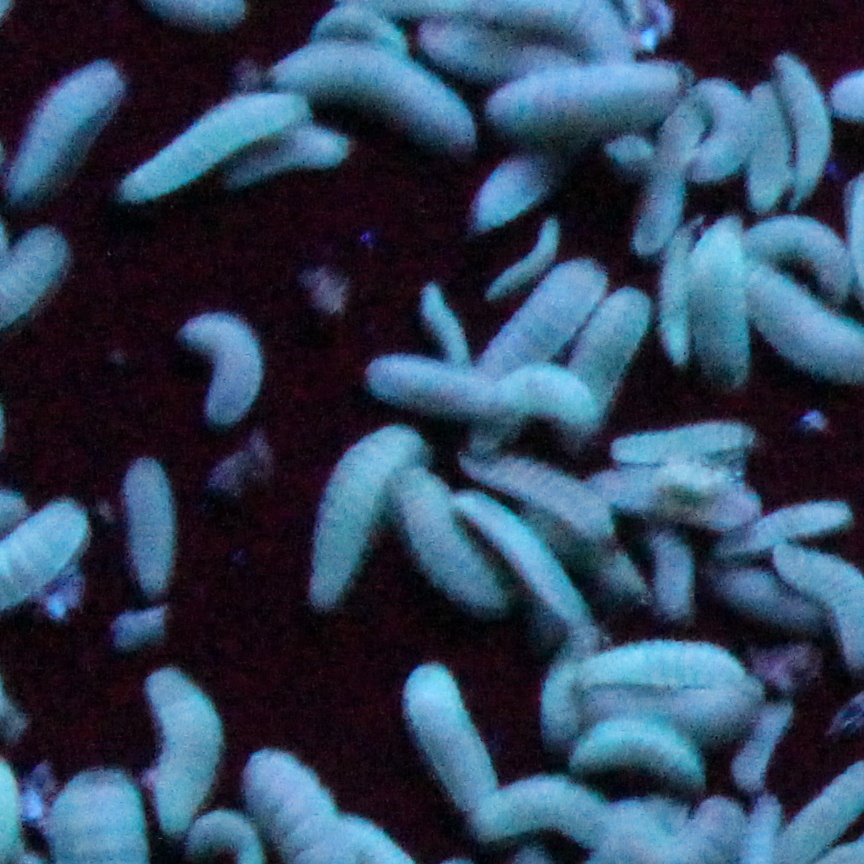larve: (300, 423, 429, 606), (260, 43, 470, 146), (127, 92, 309, 199), (450, 488, 598, 614), (474, 254, 610, 390), (392, 470, 514, 619), (481, 57, 698, 137), (14, 52, 125, 203), (396, 663, 503, 812), (465, 444, 616, 543), (569, 290, 663, 437), (136, 664, 216, 830), (567, 717, 716, 795), (176, 315, 272, 426), (687, 215, 750, 383), (732, 212, 861, 294), (767, 55, 836, 206), (581, 634, 750, 695), (112, 459, 181, 595), (476, 775, 610, 841), (625, 114, 689, 252), (359, 354, 496, 415), (483, 214, 567, 297), (721, 563, 823, 628), (694, 72, 758, 175), (714, 504, 856, 550), (545, 623, 594, 739), (643, 524, 696, 623), (485, 361, 592, 410), (736, 697, 789, 794), (414, 279, 467, 368), (665, 221, 698, 363), (612, 424, 763, 455)
